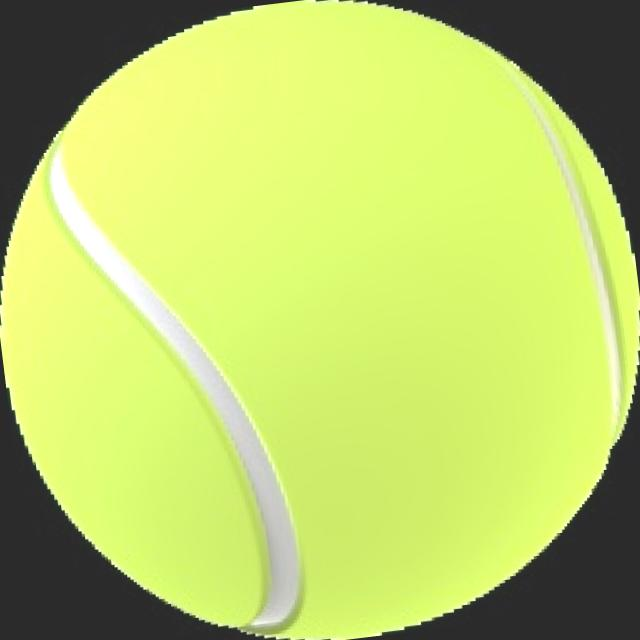Tennis Ball: (0, 1, 639, 640)
